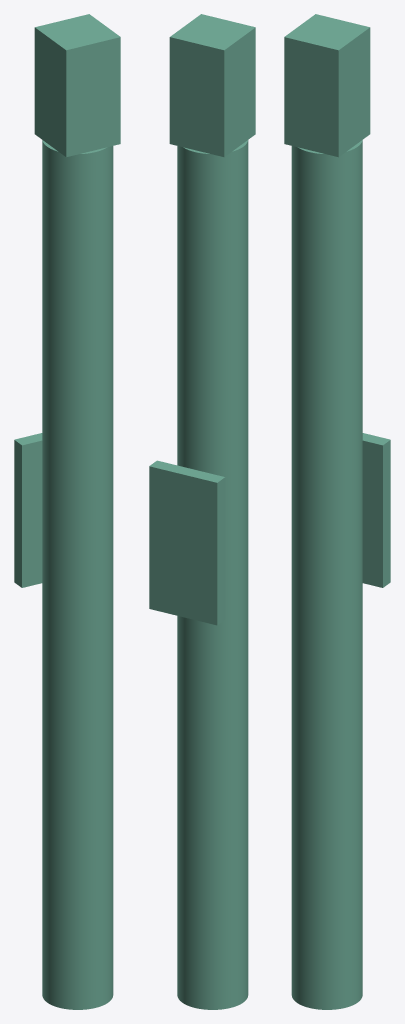
File: esp2023_p19_paddle_actuator.glb
3 views of the same model, side by side, from view 1: azimuth 30°, elevation 25°; view 2: azimuth 150°, elevation 25°; view 3: azimuth 330°, elevation 25° (orthographic).
Parts seen in each view (by area): view 1: paddle actuator; view 2: paddle actuator; view 3: paddle actuator.
Part boxes in pixels (x1,y1,x2,y2): paddle actuator: (14, 14, 120, 1009); paddle actuator: (149, 14, 255, 1009); paddle actuator: (284, 14, 390, 1009).
Bounding box in the file's own units: 100 × 1350 × 120.
